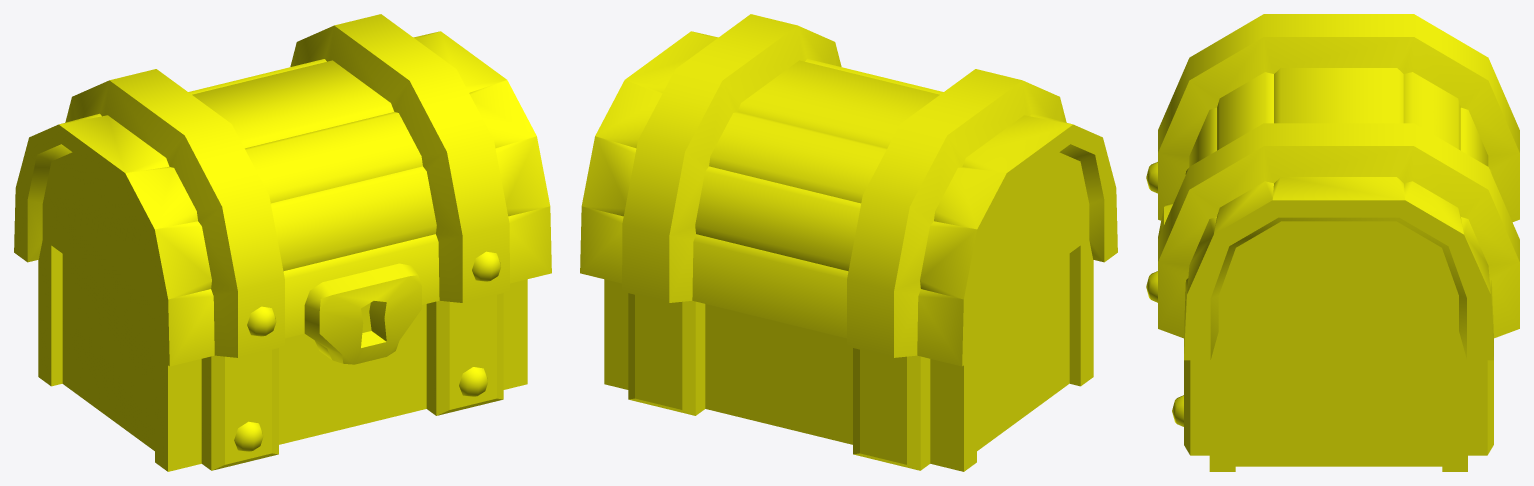
The model's file is kaykit-chest.glb.
3 views of the same model, side by side, from view 1: azimuth 30°, elevation 25°; view 2: azimuth 150°, elevation 25°; view 3: azimuth 270°, elevation 25° (orthographic).
Parts seen in each view (by area): view 1: chest; view 2: chest; view 3: chest.
Part boxes in pixels (<box>): chest: <box>14,14,551,471</box>; chest: <box>580,14,1117,471</box>; chest: <box>1146,14,1519,471</box>.
Bounding box in the file's own units: 1.7 × 1.3 × 1.45.
